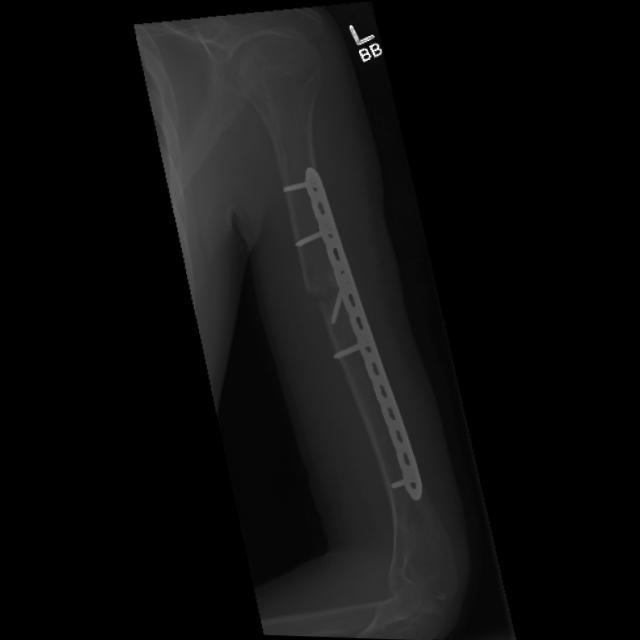humerus fracture: (281, 255, 357, 349)
